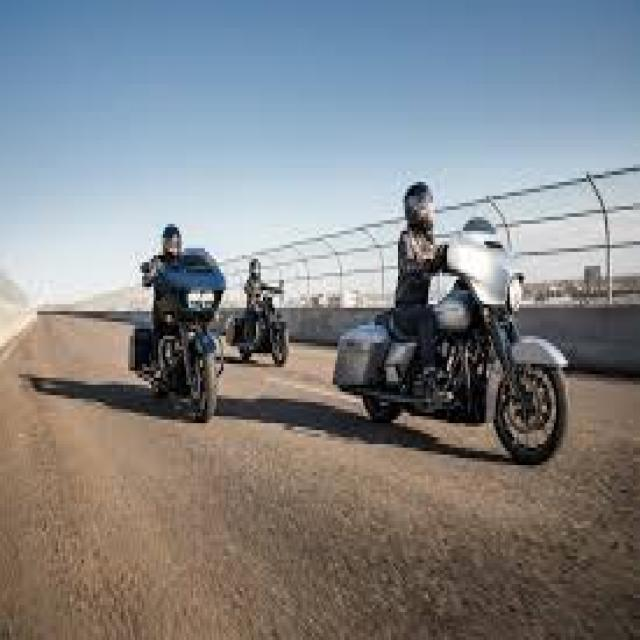Bike: (337, 210, 572, 463), (132, 249, 229, 421), (229, 284, 297, 376)
